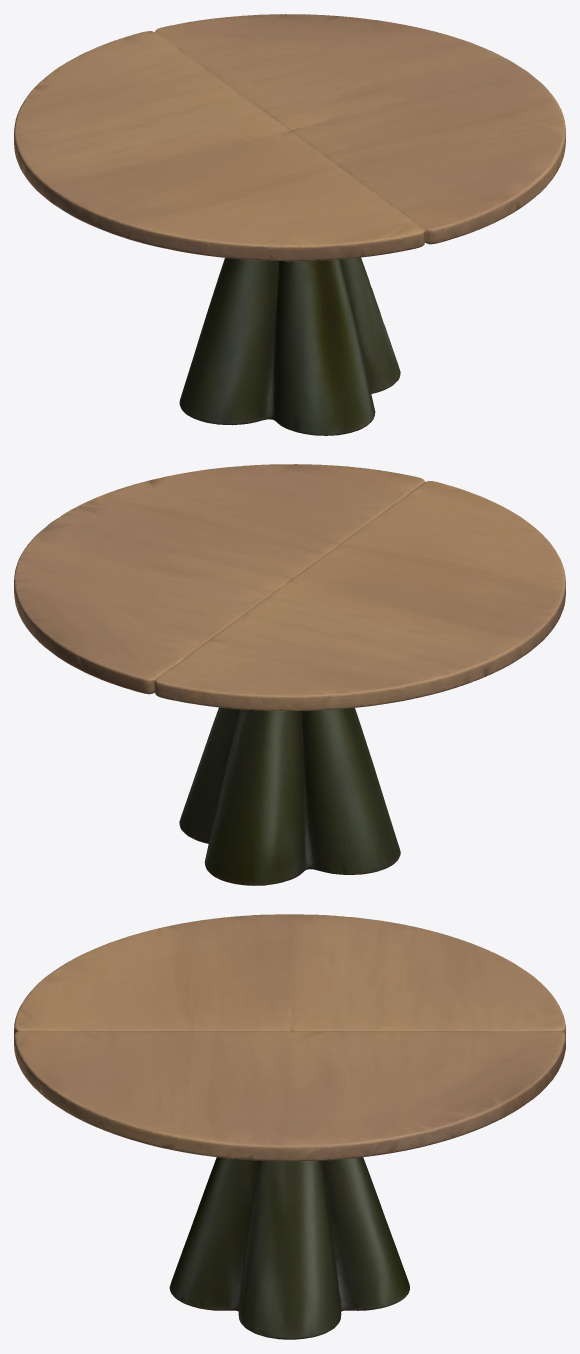
File: green-pedestal-dining-table.glb
The picture shows the model from 3 angles, top to bottom: view 1: azimuth 30°, elevation 25°; view 2: azimuth 150°, elevation 25°; view 3: azimuth 270°, elevation 25°; orthographic projection.
Visible parts, largest first — view 1: world; view 2: world; view 3: world.
Part boxes in pixels (x1,y1,x2,y2): world: [14, 14, 565, 435]; world: [14, 464, 565, 885]; world: [14, 914, 565, 1339].
Bounding box in the file's own units: 1 × 0.5218 × 1.
Materials: 1 (1 with a texture image).
